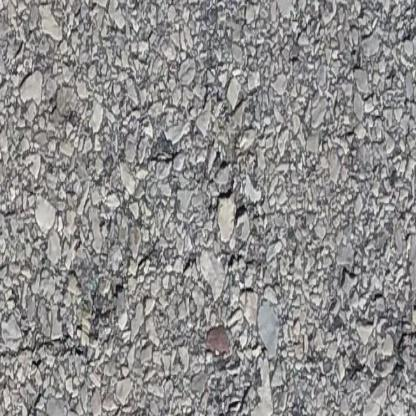Cracks: (241, 0, 401, 416)
